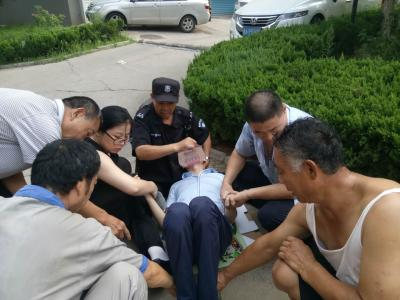fall: (157, 137, 247, 294)
